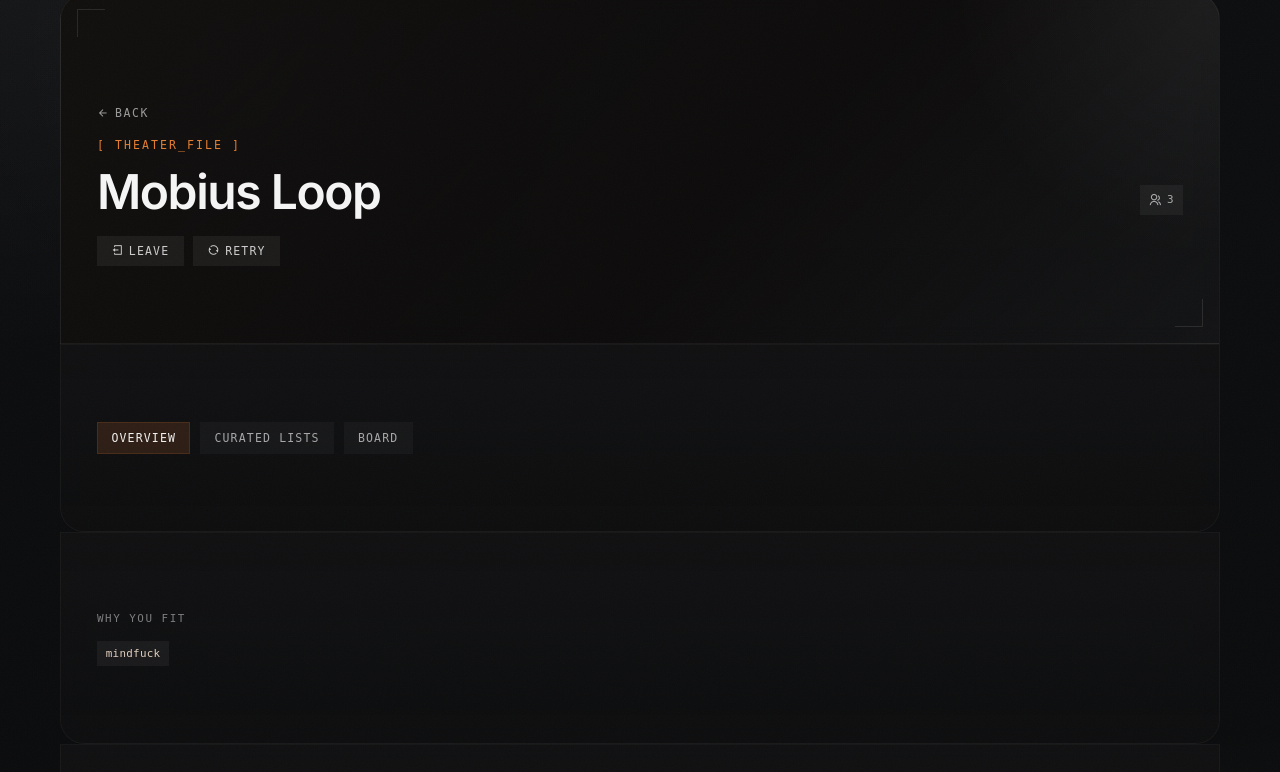
TheaterDetailPage › posts and deletes replies under a list
Click the tab "Curated Lists" at coordinates (267, 438), box [200,422,334,454]
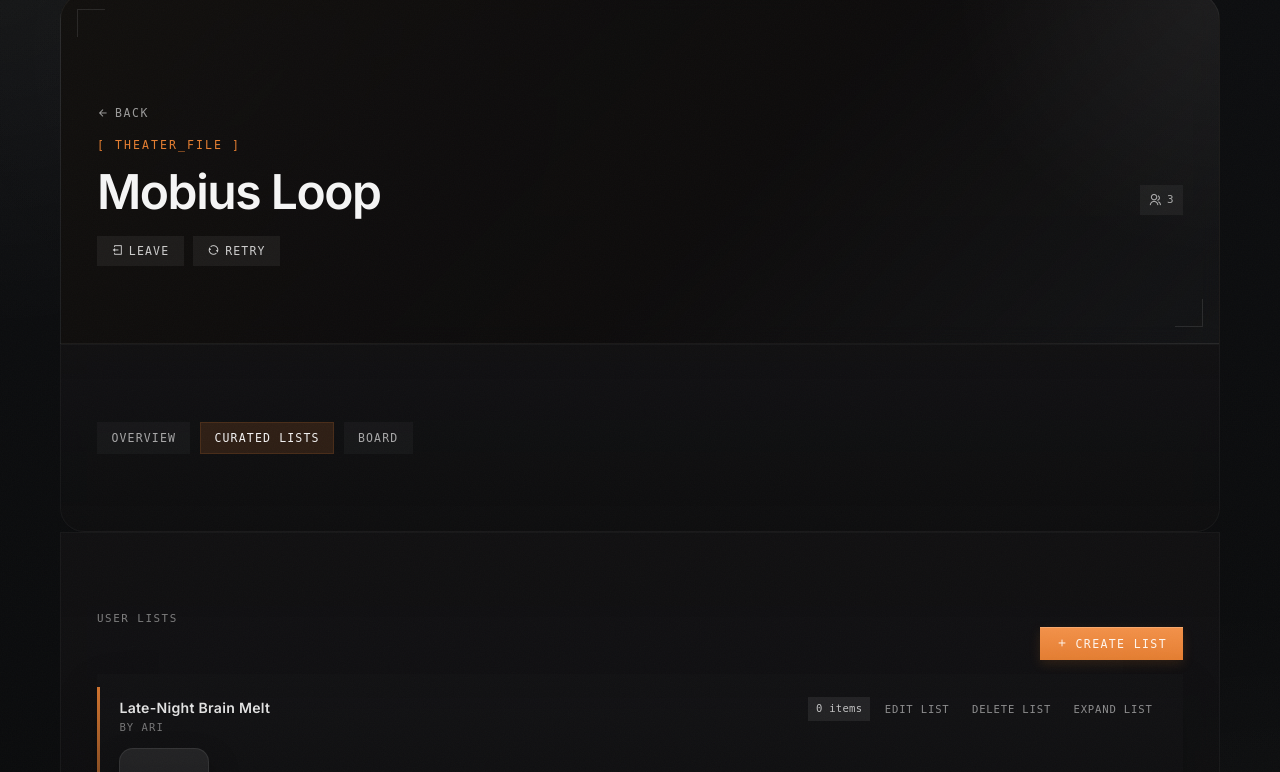
Now the text "Late-Night Brain Melt" is shown, box [119,697,270,719]
Click the button "Expand List" at coordinates (1113, 709), box [1066,698,1161,719]
(page scrolled)
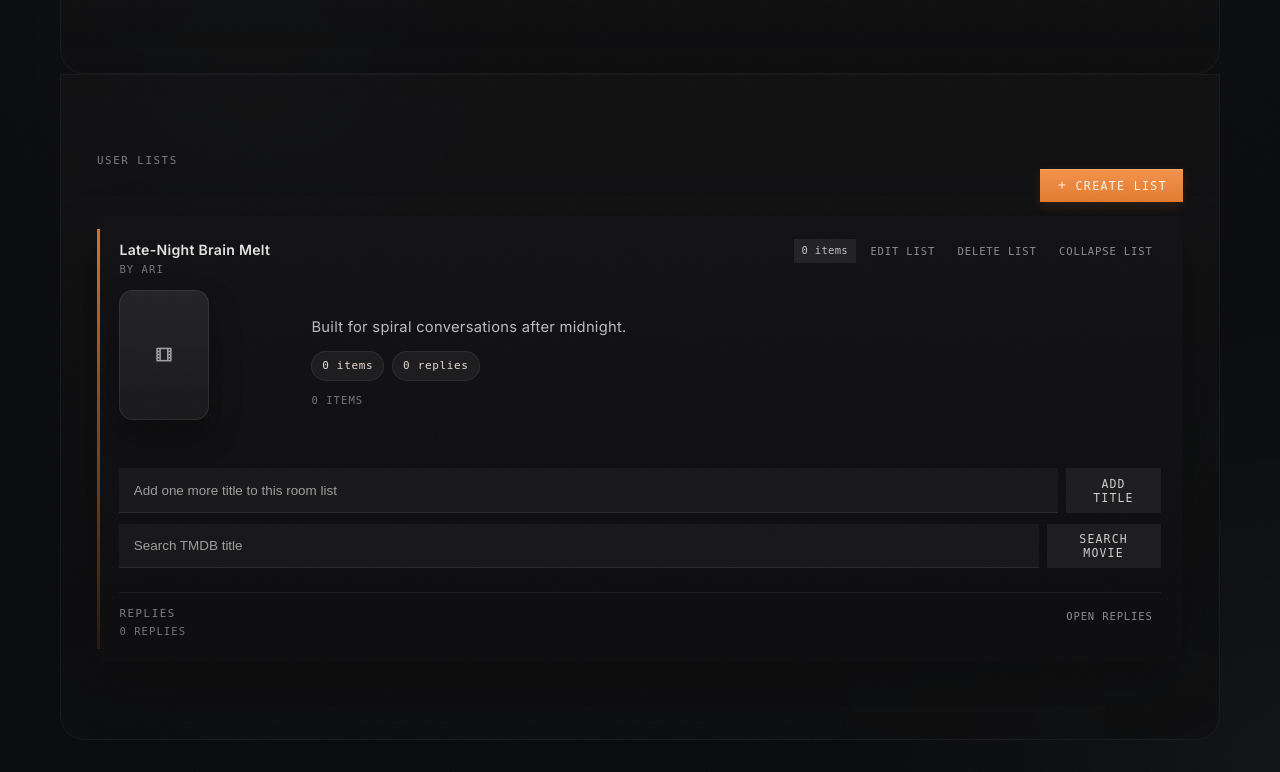
Now the text "Late-Night Brain Melt" is shown, box [119,239,270,261]
Click the button "Open replies" at coordinates (1109, 616), box [1058,605,1161,627]
(page scrolled)
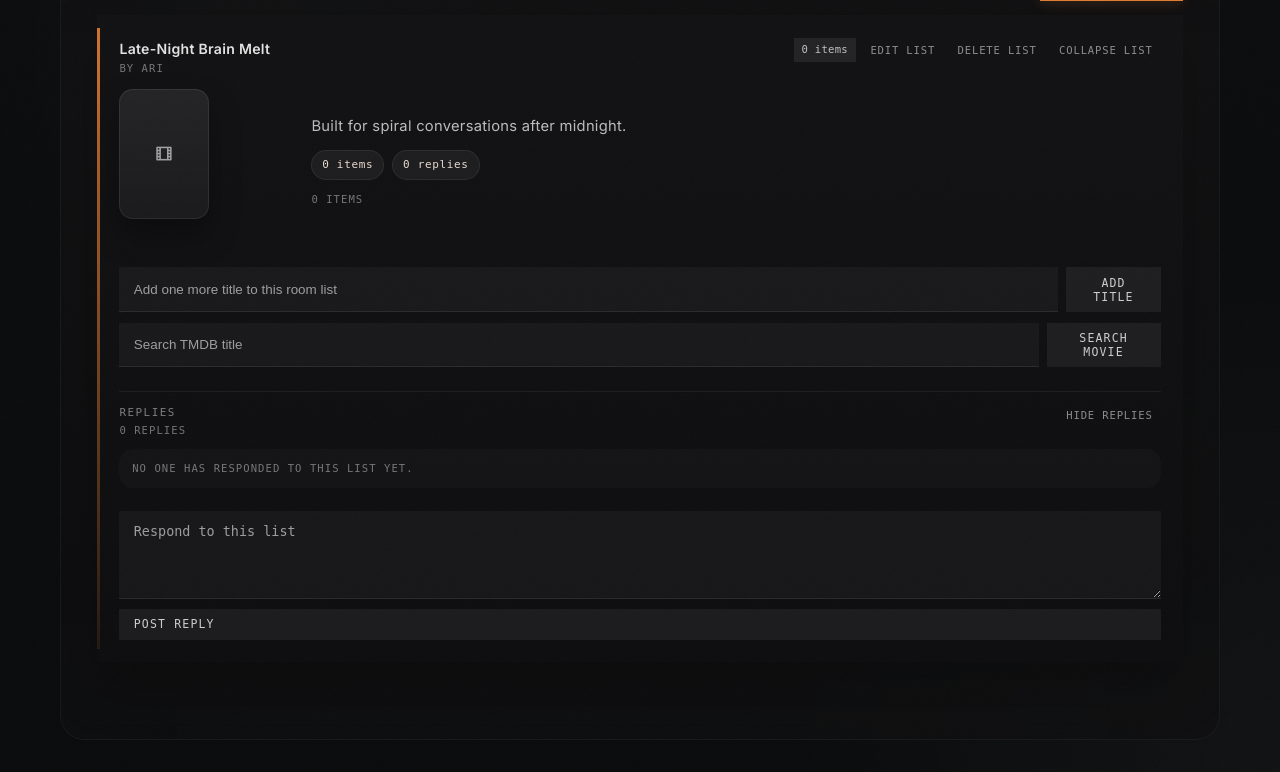
Type "Burning should be the follow-up slot." into the text box with placeholder "Respond to this list" at coordinates (640, 555), box [119,511,1161,599]
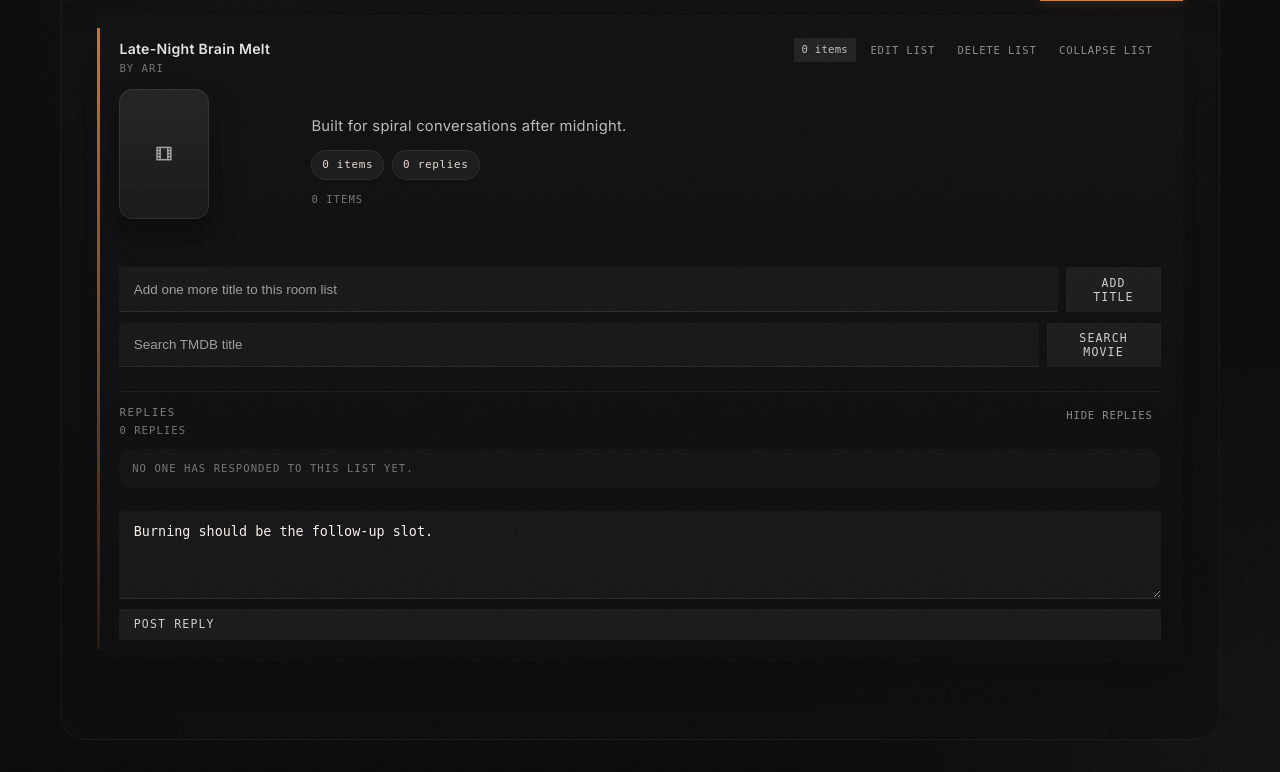
Click the button "Post Reply" at coordinates (174, 624), box [119,609,1161,640]
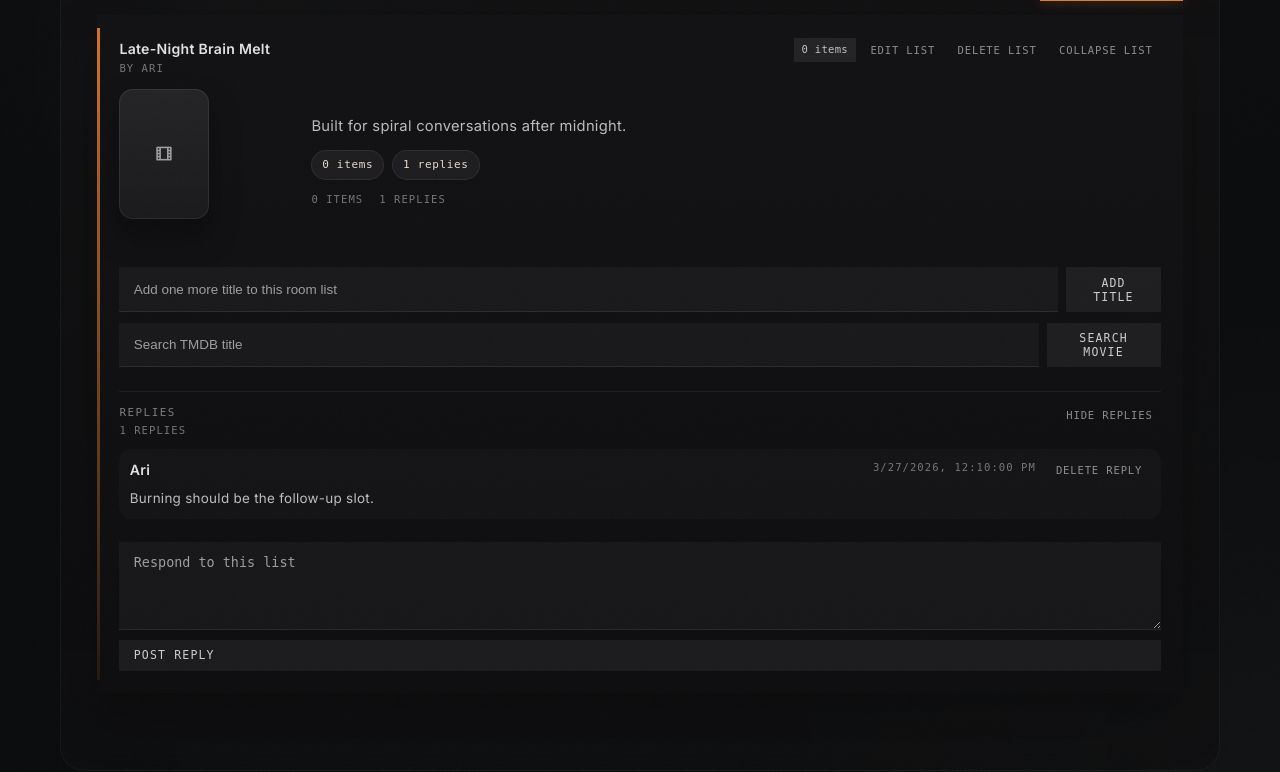
Now the text "Burning should be the follow-up slot." is shown, box [130,490,374,506]
Click the button "Delete Reply" at coordinates (1099, 470), box [1048,460,1150,481]
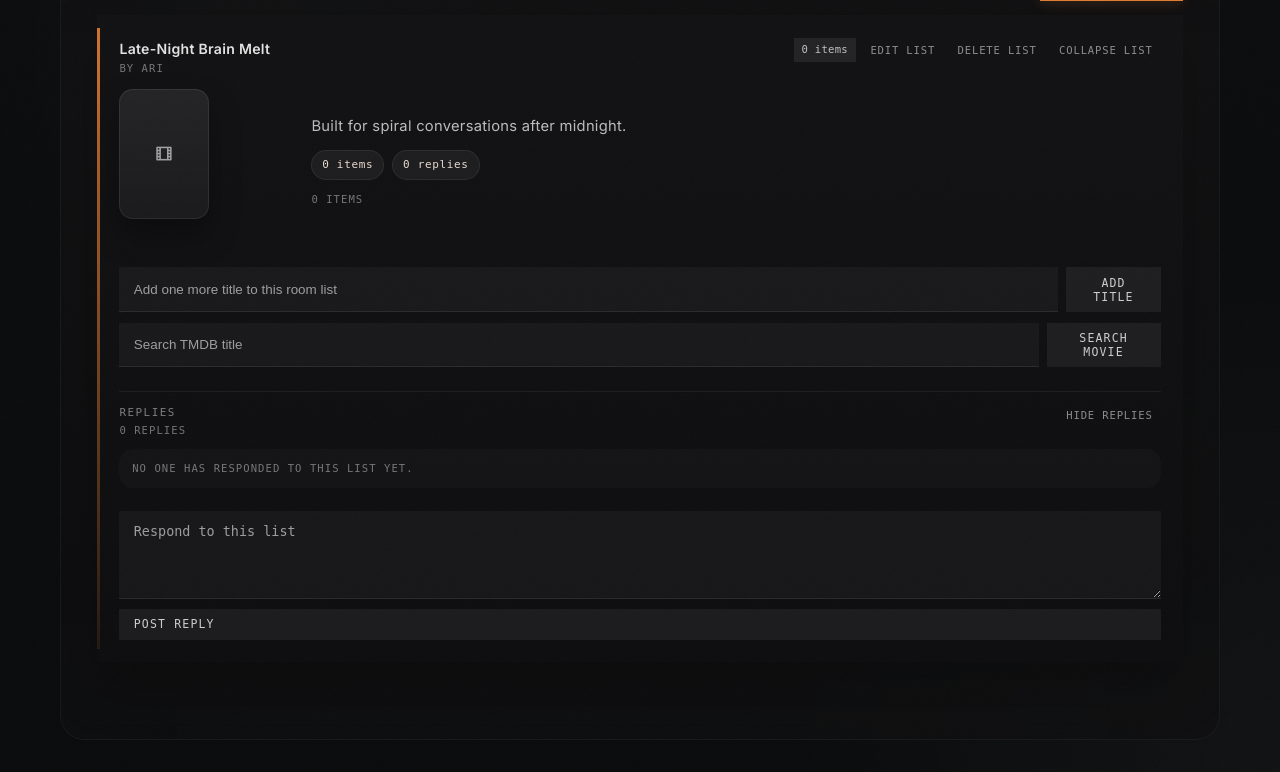
Now the text "Burning should be the follow-up slot." is gone
